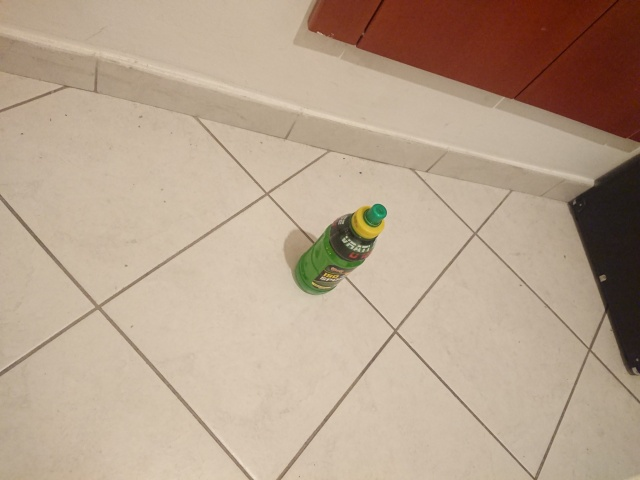Vindi Iso Sport Lemon-Grapefruit 500mL: (292, 202, 389, 298)
